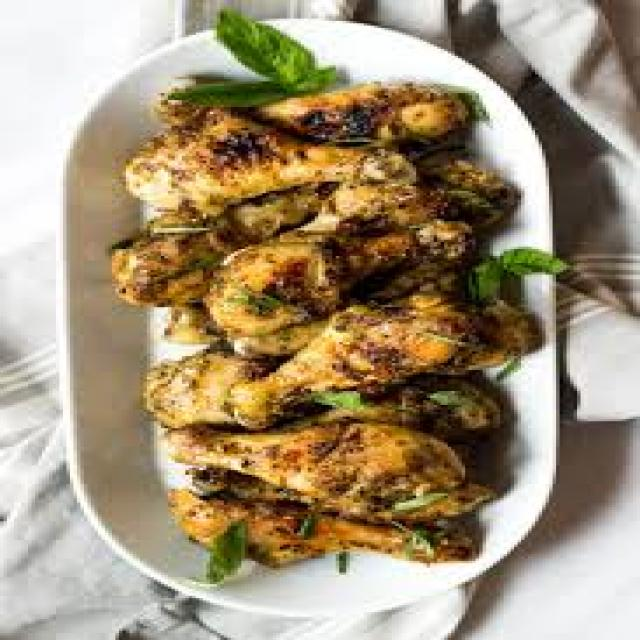Frango: (105, 84, 556, 584)
